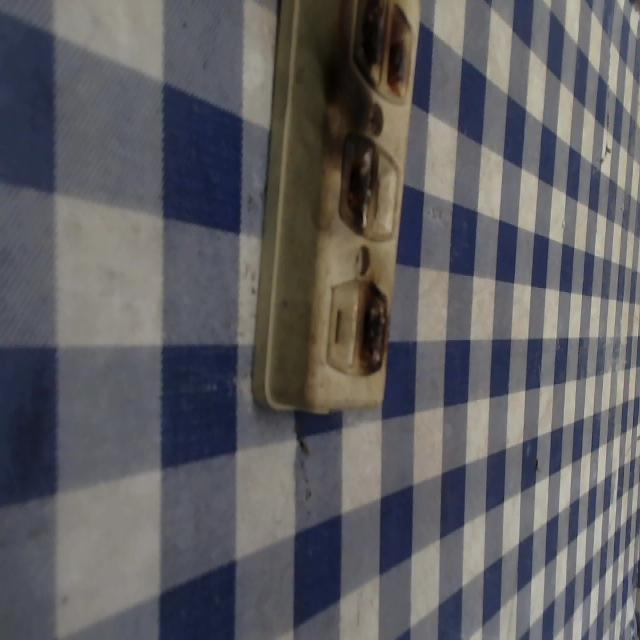-: (348, 3, 414, 101), (336, 127, 377, 241), (361, 277, 386, 371)
